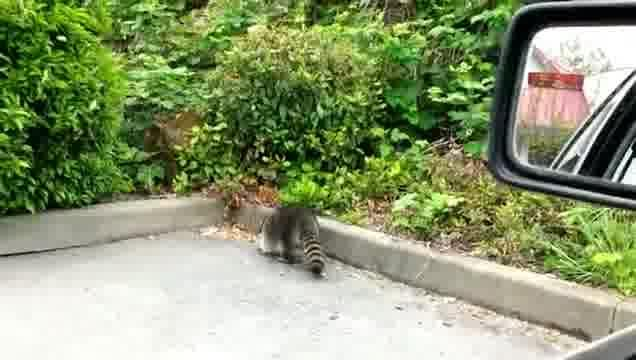raccoon: (250, 201, 333, 280)
